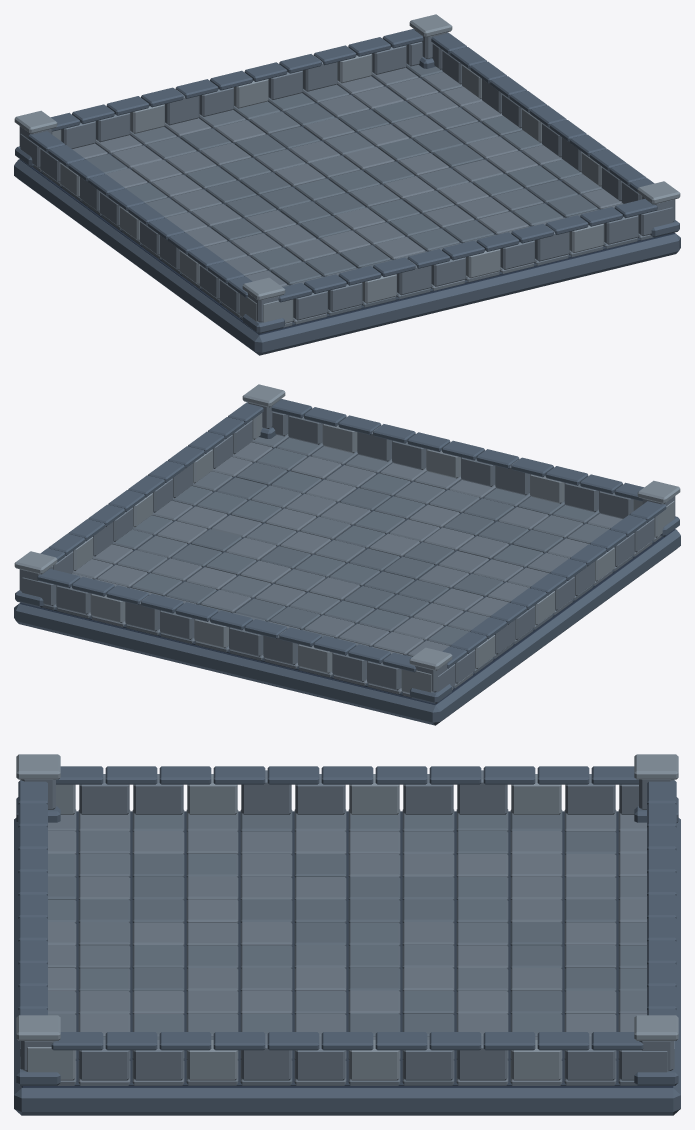
File: room_shell.glb
3 renders of one model, top to bottom at view 1: azimuth 30°, elevation 25°; view 2: azimuth 150°, elevation 25°; view 3: azimuth 270°, elevation 25°, orthographic. The views are drawn at different scales.
Visible parts, largest first — view 1: RoomShell, RoomShell_Slate_BlueBlack, RoomShell_Slate_Worn, RoomShell_Slate_Pale_Edges, RoomShell_Mortar_Deep_Navy, RoomShell_Recess_Midnight; view 2: RoomShell, RoomShell_Slate_BlueBlack, RoomShell_Slate_Worn, RoomShell_Slate_Pale_Edges, RoomShell_Mortar_Deep_Navy, RoomShell_Recess_Midnight; view 3: RoomShell, RoomShell_Slate_BlueBlack, RoomShell_Slate_Worn, RoomShell_Slate_Pale_Edges, RoomShell_Mortar_Deep_Navy, RoomShell_Recess_Midnight.
Part boxes in pixels (left/top/right/bottom): RoomShell: left=33, top=64, right=653, bottom=327; RoomShell_Slate_BlueBlack: left=14, top=29, right=680, bottom=355; RoomShell_Slate_Worn: left=19, top=30, right=675, bottom=322; RoomShell_Slate_Pale_Edges: left=14, top=14, right=680, bottom=323; RoomShell_Mortar_Deep_Navy: left=33, top=67, right=652, bottom=327; RoomShell_Recess_Midnight: left=19, top=159, right=675, bottom=335; RoomShell: left=42, top=434, right=661, bottom=697; RoomShell_Slate_BlueBlack: left=14, top=399, right=680, bottom=725; RoomShell_Slate_Worn: left=19, top=400, right=675, bottom=692; RoomShell_Slate_Pale_Edges: left=14, top=384, right=680, bottom=693; RoomShell_Mortar_Deep_Navy: left=41, top=437, right=661, bottom=697; RoomShell_Recess_Midnight: left=19, top=529, right=675, bottom=705; RoomShell: left=48, top=809, right=646, bottom=1085; RoomShell_Slate_BlueBlack: left=14, top=766, right=680, bottom=1115; RoomShell_Slate_Worn: left=20, top=770, right=674, bottom=1080; RoomShell_Slate_Pale_Edges: left=16, top=754, right=678, bottom=1080; RoomShell_Mortar_Deep_Navy: left=74, top=811, right=637, bottom=1085; RoomShell_Recess_Midnight: left=21, top=1086, right=673, bottom=1087.
Bounding box in the file's own units: 12.35 × 1.73 × 12.35.
